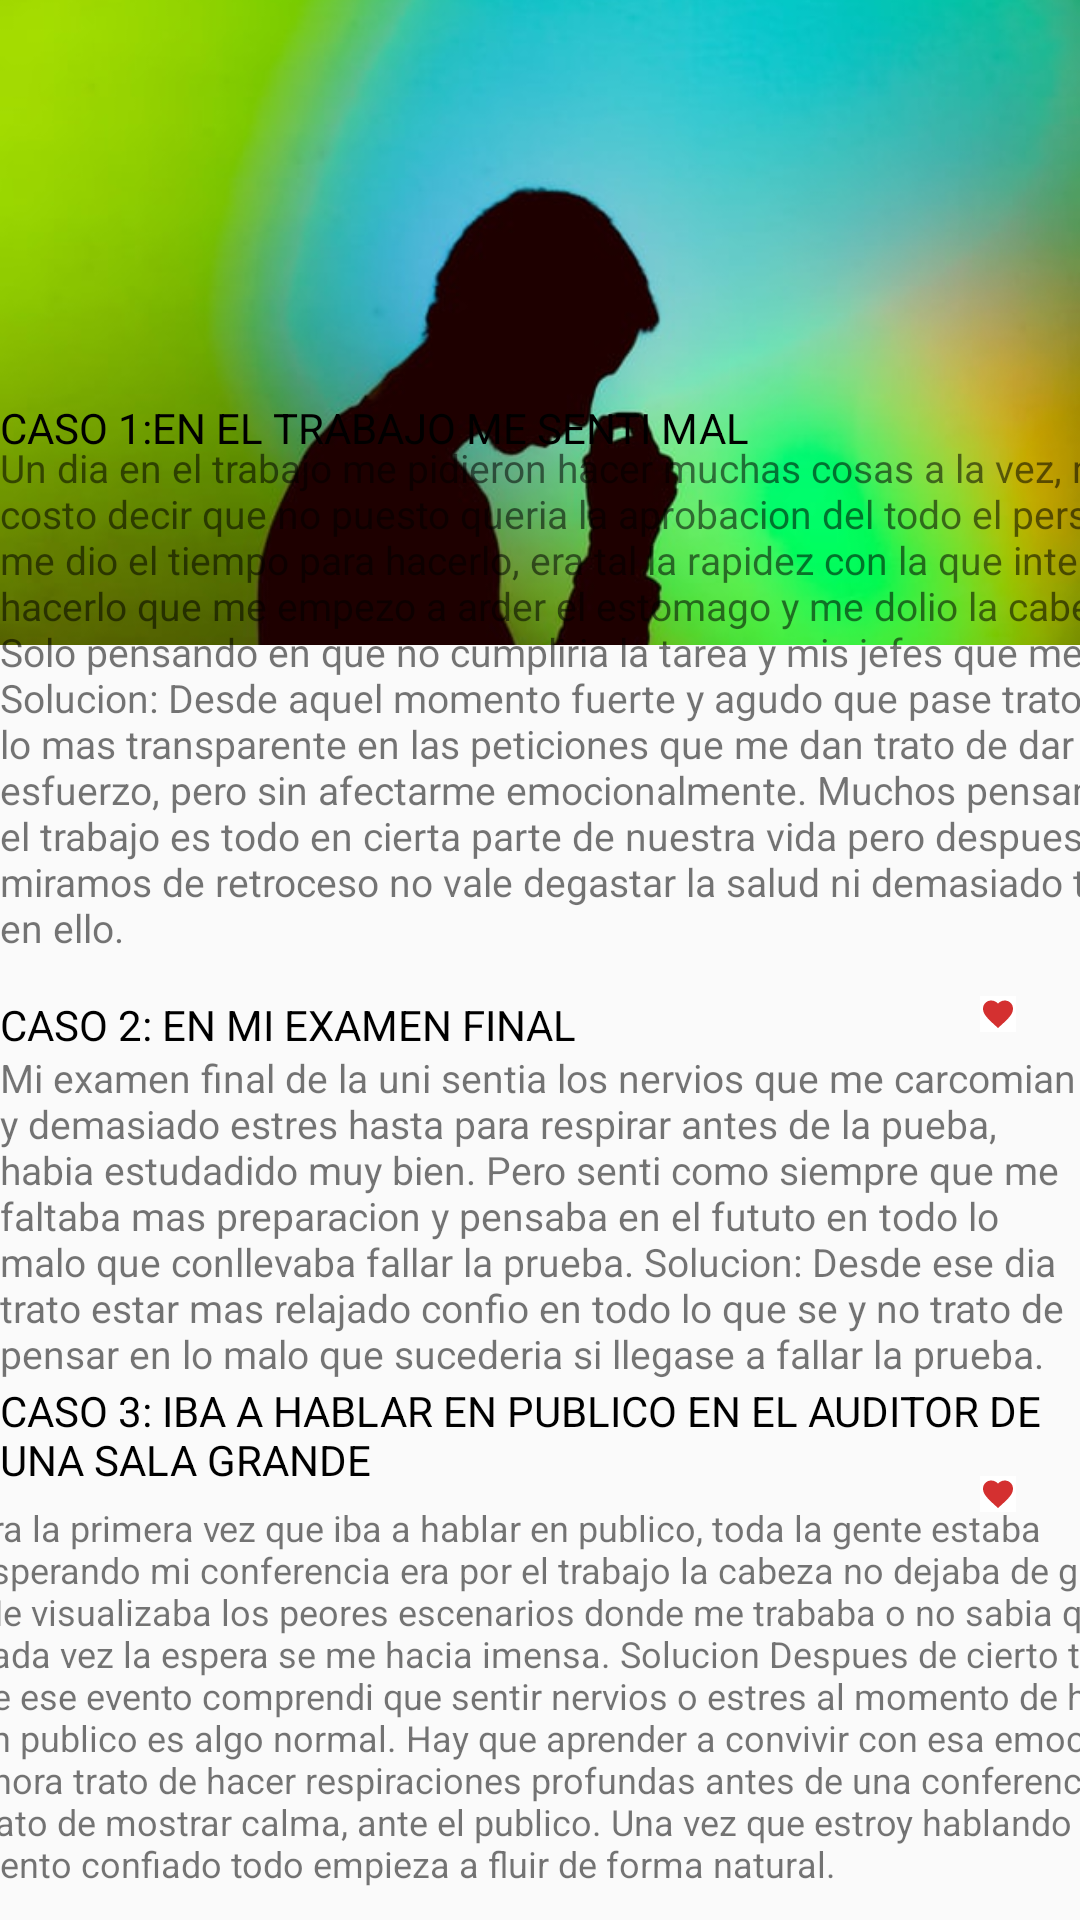

Icons on this 1080x1920 Android screen, each with the point to tap as point (x, y):
favorito: point (998, 1014), point (998, 1494)
